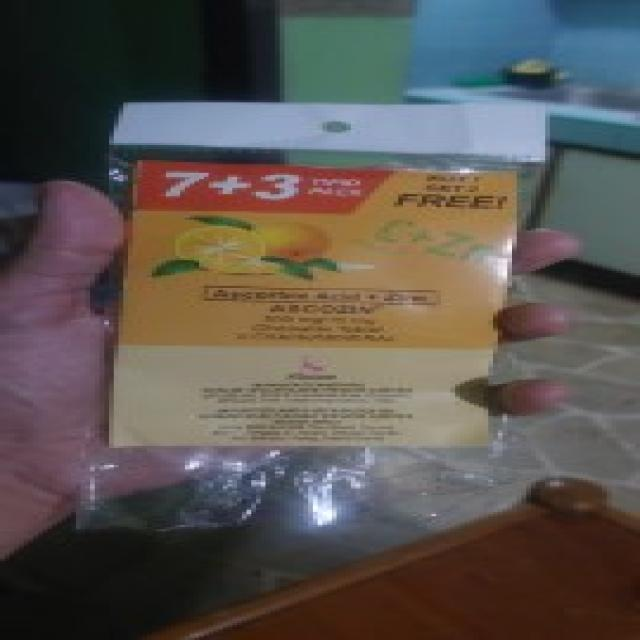Cacat: (96, 102, 554, 523)
